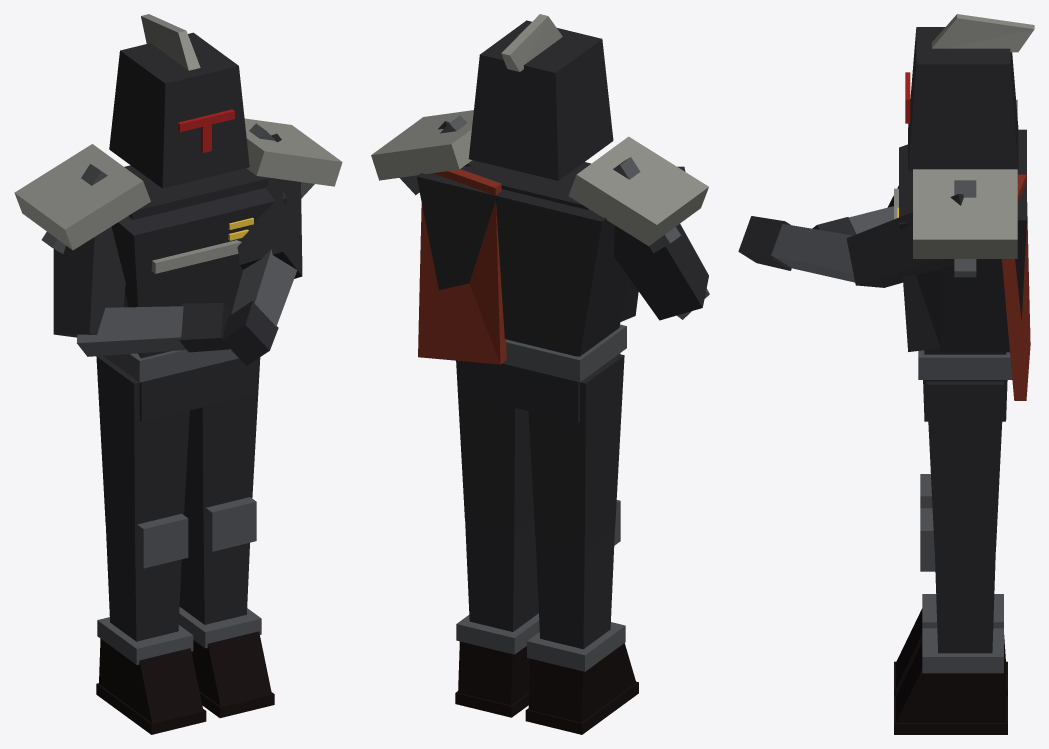
The model's file is hunter_captain.glb.
The picture shows the model from 3 angles, left to right: view 1: azimuth 30°, elevation 25°; view 2: azimuth 150°, elevation 25°; view 3: azimuth 270°, elevation 25°; orthographic projection. The views are drawn at different scales.
Visible parts, largest first — view 1: torso, head, leg_r_lower, leg_l_lower, leg_r, pauldron_r, leg_l, arm_r_lower, arm_r, arm_l_lower, pauldron_l, arm_l; view 2: torso, head, leg_r_lower, leg_l_lower, leg_r, pauldron_r, leg_l, arm_r, pauldron_l; view 3: torso, head, leg_l_lower, leg_l, pauldron_l, arm_l_lower, arm_l, leg_r_lower, arm_r_lower.
Part boxes in pixels (bbox=[...]): torso: bbox=[103, 165, 286, 421]; head: bbox=[109, 14, 249, 188]; leg_r_lower: bbox=[96, 513, 206, 734]; leg_l_lower: bbox=[178, 497, 274, 717]; leg_r: bbox=[96, 356, 189, 544]; pauldron_r: bbox=[14, 144, 150, 253]; leg_l: bbox=[184, 357, 260, 527]; arm_r_lower: bbox=[77, 303, 231, 356]; arm_r: bbox=[53, 226, 125, 337]; arm_l_lower: bbox=[222, 249, 297, 365]; pauldron_l: bbox=[244, 118, 342, 198]; arm_l: bbox=[237, 133, 302, 278]; torso: bbox=[416, 160, 638, 422]; head: bbox=[468, 14, 613, 180]; leg_r_lower: bbox=[525, 500, 638, 734]; leg_l_lower: bbox=[455, 517, 539, 717]; leg_r: bbox=[528, 354, 624, 548]; pauldron_r: bbox=[568, 136, 708, 253]; leg_l: bbox=[456, 360, 534, 531]; arm_r: bbox=[614, 224, 708, 320]; pauldron_l: bbox=[371, 110, 473, 195]; torso: bbox=[894, 129, 1030, 421]; head: bbox=[905, 14, 1034, 171]; leg_l_lower: bbox=[894, 508, 1007, 734]; leg_l: bbox=[926, 381, 1003, 551]; pauldron_l: bbox=[913, 169, 1017, 277]; arm_l_lower: bbox=[738, 216, 854, 282]; arm_l: bbox=[846, 194, 983, 287]; leg_r_lower: bbox=[894, 474, 1007, 696]; arm_r_lower: bbox=[812, 206, 893, 235].
Bounding box in the file's own units: 0.8191 × 1.86 × 0.7262.
